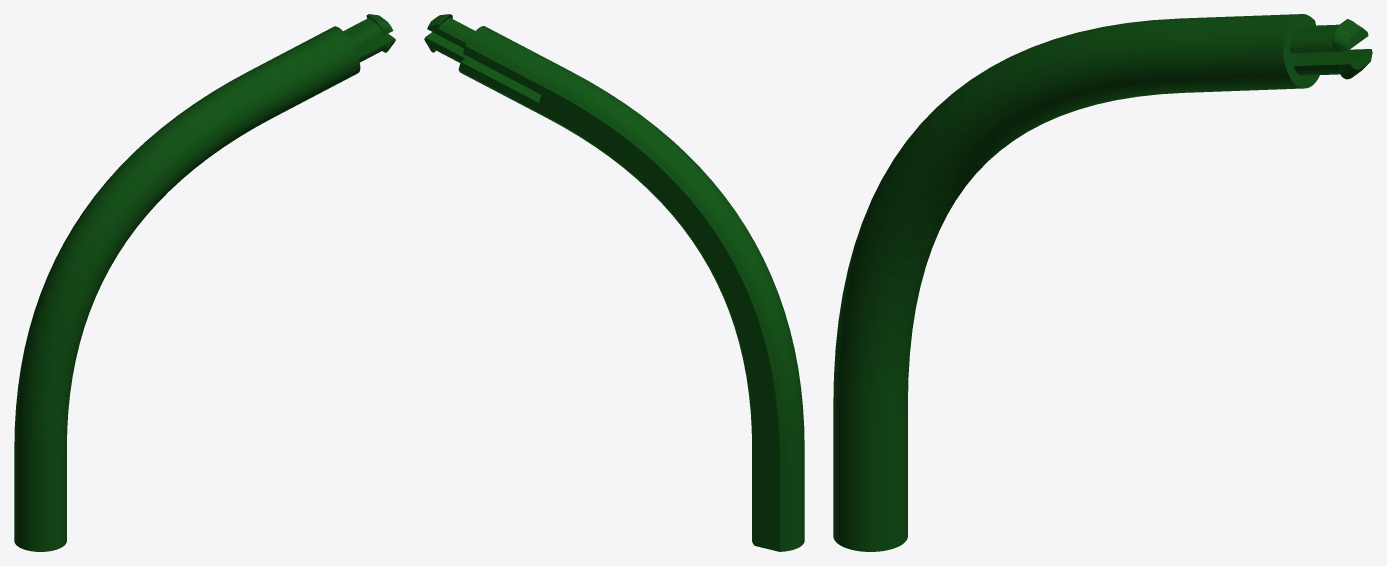
File: stem_3A_75_R.glb
3 renders of one model, left to right at view 1: azimuth 30°, elevation 25°; view 2: azimuth 150°, elevation 25°; view 3: azimuth 330°, elevation 25°, orthographic. The views are drawn at different scales.
Parts seen in each view (by area): view 1: stem_3A_75_R; view 2: stem_3A_75_R; view 3: stem_3A_75_R.
Part boxes in pixels (x1,y1,x2,y2): stem_3A_75_R: (14, 14, 395, 551); stem_3A_75_R: (424, 14, 804, 551); stem_3A_75_R: (833, 14, 1372, 551).
Size of the model in its own units: 0.0587 by 0.0669 by 0.00666.
